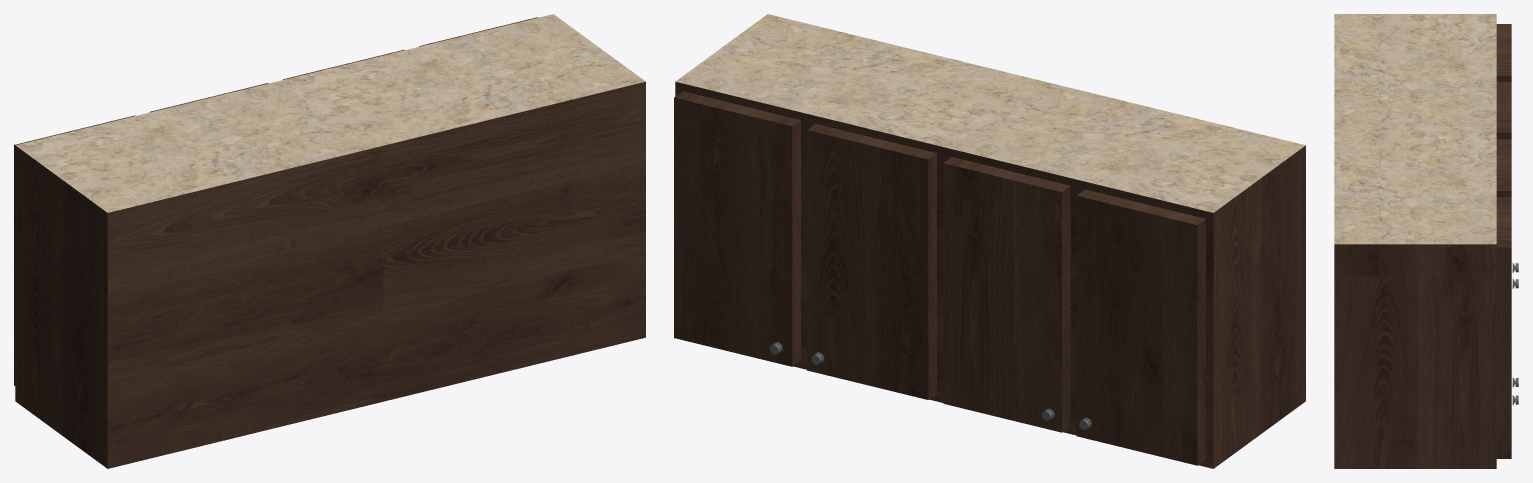
File: kichen-sink-marble.FBX
3 views of the same model, side by side, from view 1: azimuth 30°, elevation 25°; view 2: azimuth 150°, elevation 25°; view 3: azimuth 270°, elevation 25° (orthographic). The views are drawn at different scales.
Parts seen in each view (by area): view 1: kichen-cabinet-top001; view 2: kichen-cabinet-top001; view 3: kichen-cabinet-top001.
Part boxes in pixels (x1,y1,x2,y2): kichen-cabinet-top001: (14,14,645,468); kichen-cabinet-top001: (674,14,1305,468); kichen-cabinet-top001: (1334,14,1518,468).
Bounding box in the file's own units: 53.18 × 24.17 × 17.97.
Materials: 3 (3 with a texture image).
